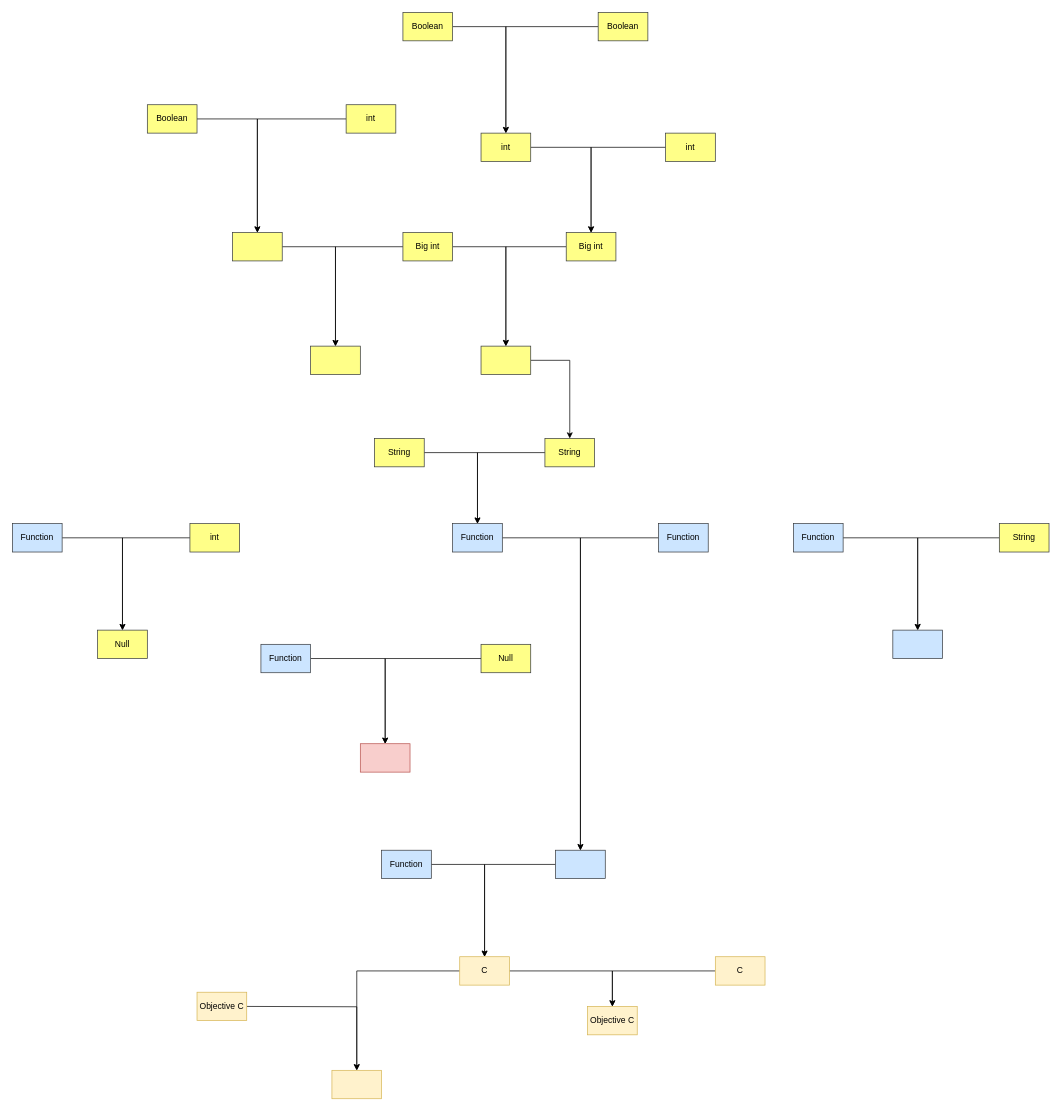
The diagram is 1061 pixels wide and 1111 high, and some of its shapes have lost their labels. Each missing label, with the box of its shape:
Bug: (360, 743, 410, 772)
C++: (331, 1070, 382, 1099)
char: (480, 345, 531, 375)
Class: (555, 850, 605, 879)
double: (232, 232, 282, 261)
float: (310, 345, 360, 375)
For loop: (892, 629, 943, 659)
